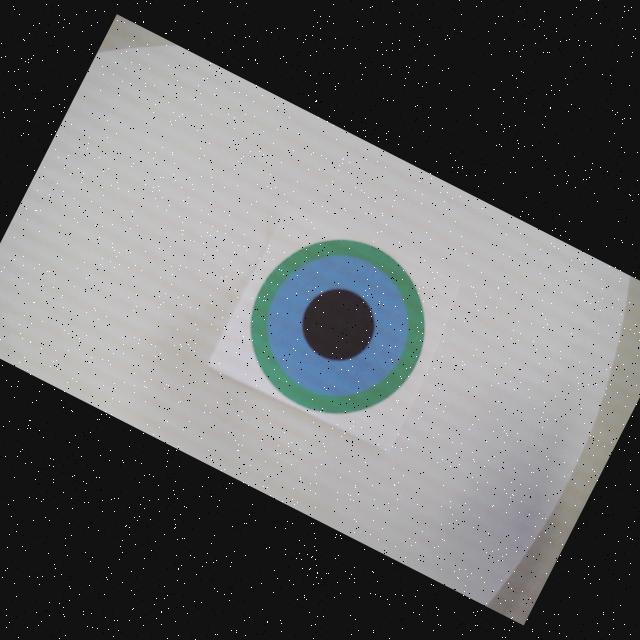COGNITIVE: (222, 210, 456, 444)
